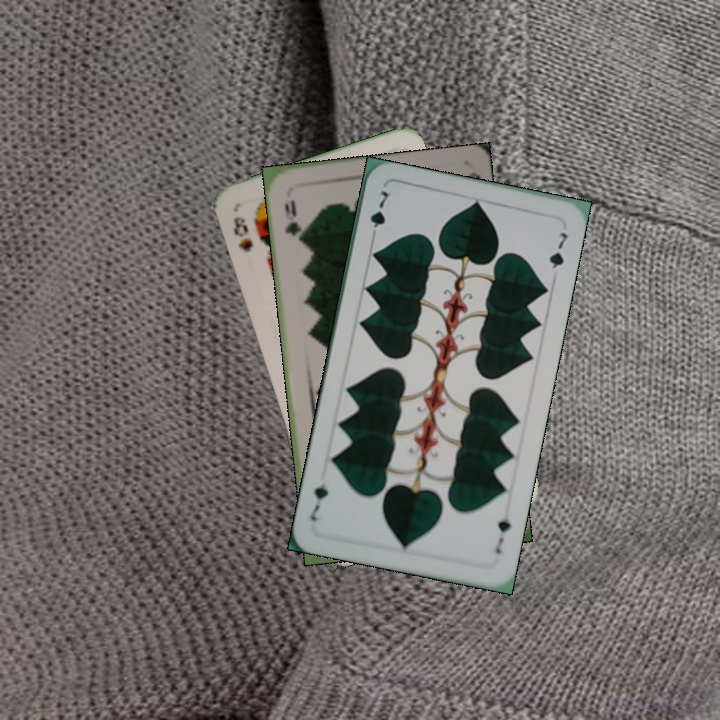G7: (366, 186, 391, 244), (491, 507, 514, 556)
G9: (280, 195, 304, 247)
S8: (229, 212, 256, 255)
